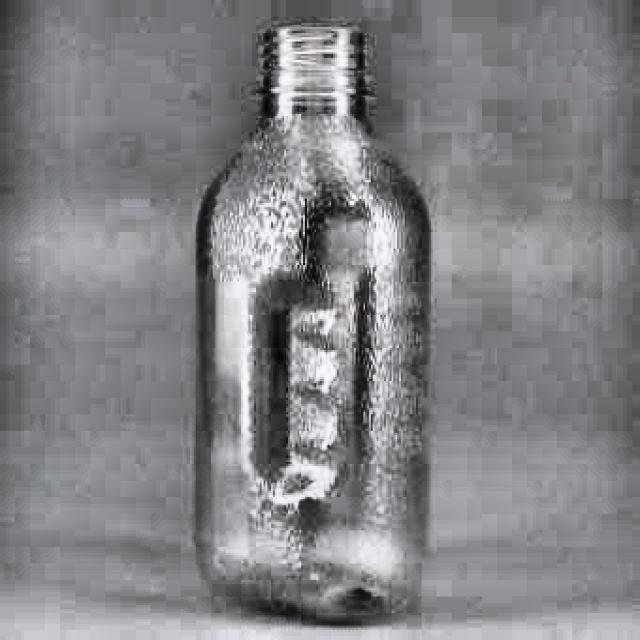plastic bottle: (198, 27, 429, 620)
